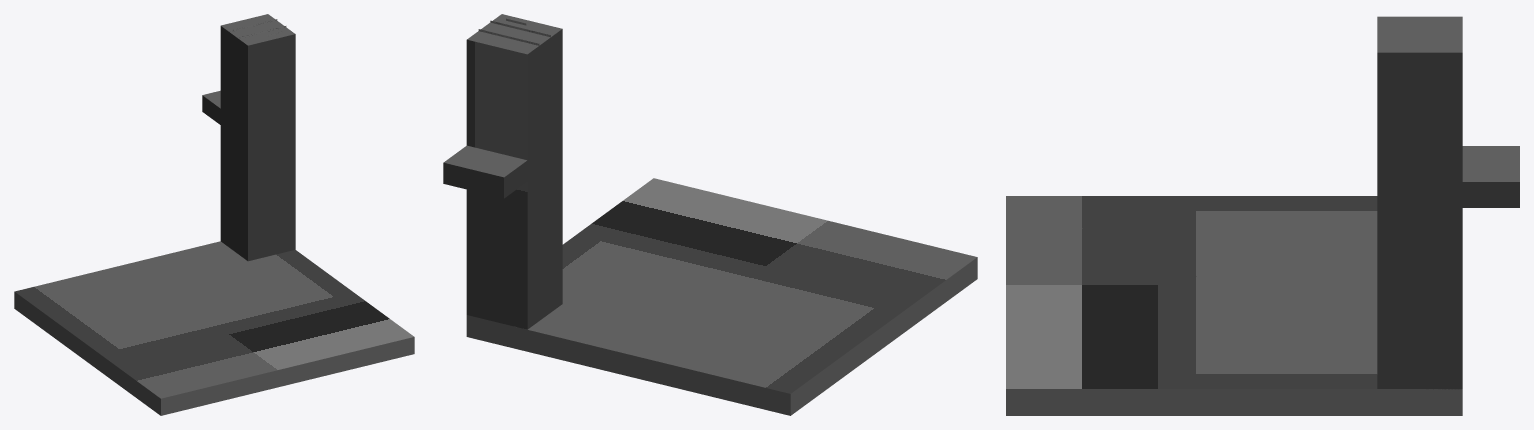
Rendered from commander.obj.
The picture shows the model from 3 angles, left to right: view 1: azimuth 30°, elevation 25°; view 2: azimuth 150°, elevation 25°; view 3: azimuth 270°, elevation 25°; orthographic projection. The views are drawn at different scales.
Visible parts, largest first — view 1: Shape1.001; view 2: Shape1.001; view 3: Shape1.001.
Boxes of the visible parts, bbox=[...] form: Shape1.001: bbox=[14, 14, 414, 415]; Shape1.001: bbox=[443, 14, 977, 415]; Shape1.001: bbox=[1006, 16, 1519, 415].
Size of the model in its own units: 1 by 0.8838 by 1.12.
